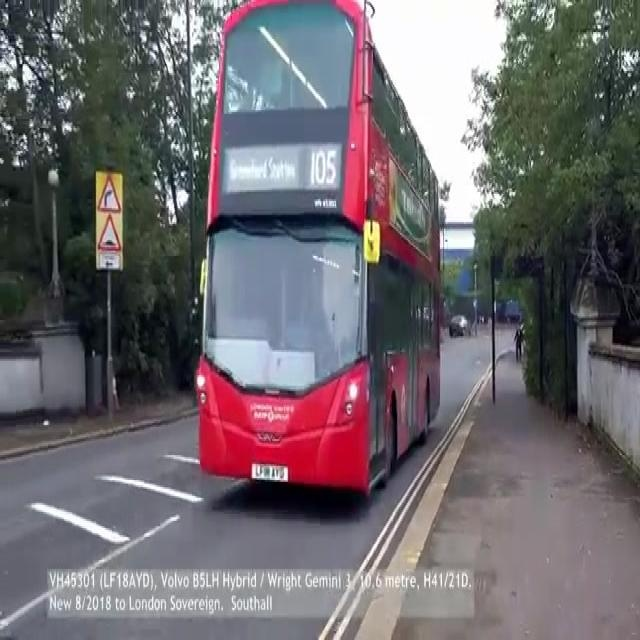Bus: (186, 0, 453, 500)
